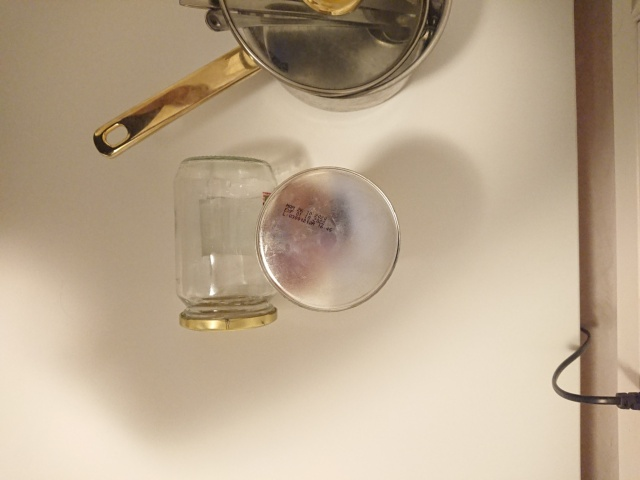Nescafe Classic 225g: (251, 162, 406, 317)
